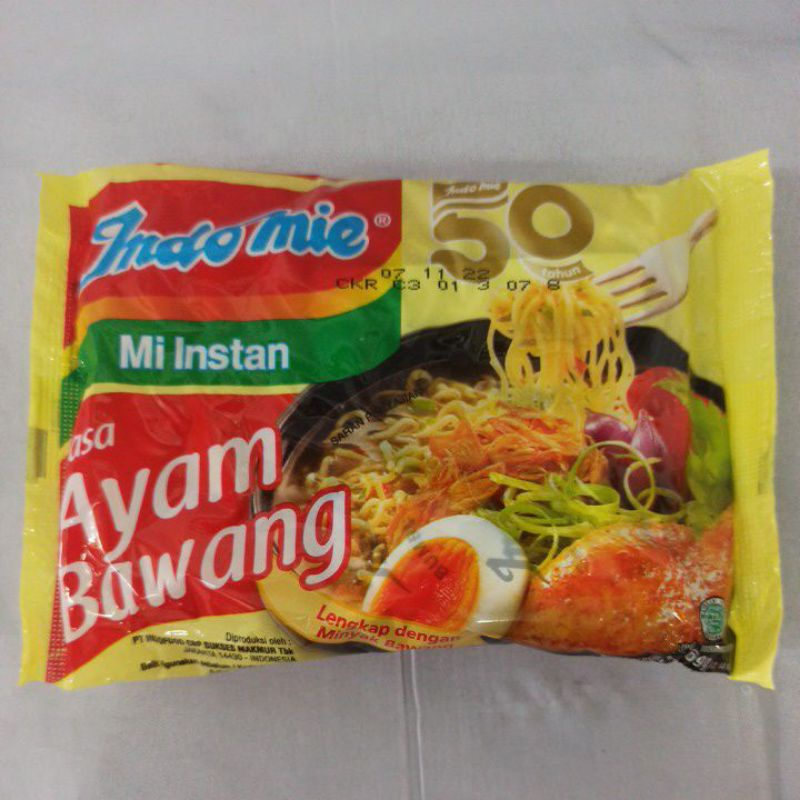Indomie Ayam Bawang (69g): (15, 145, 787, 716)
